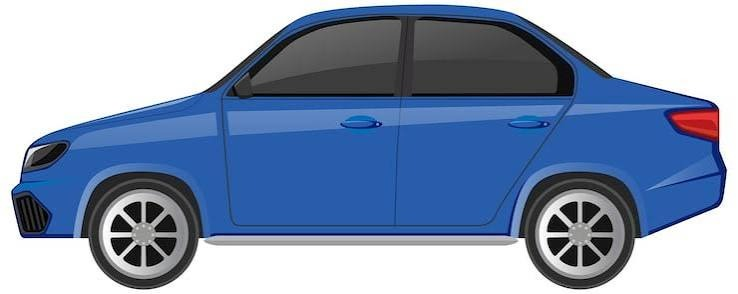car: (17, 5, 734, 294), (25, 7, 738, 288)
